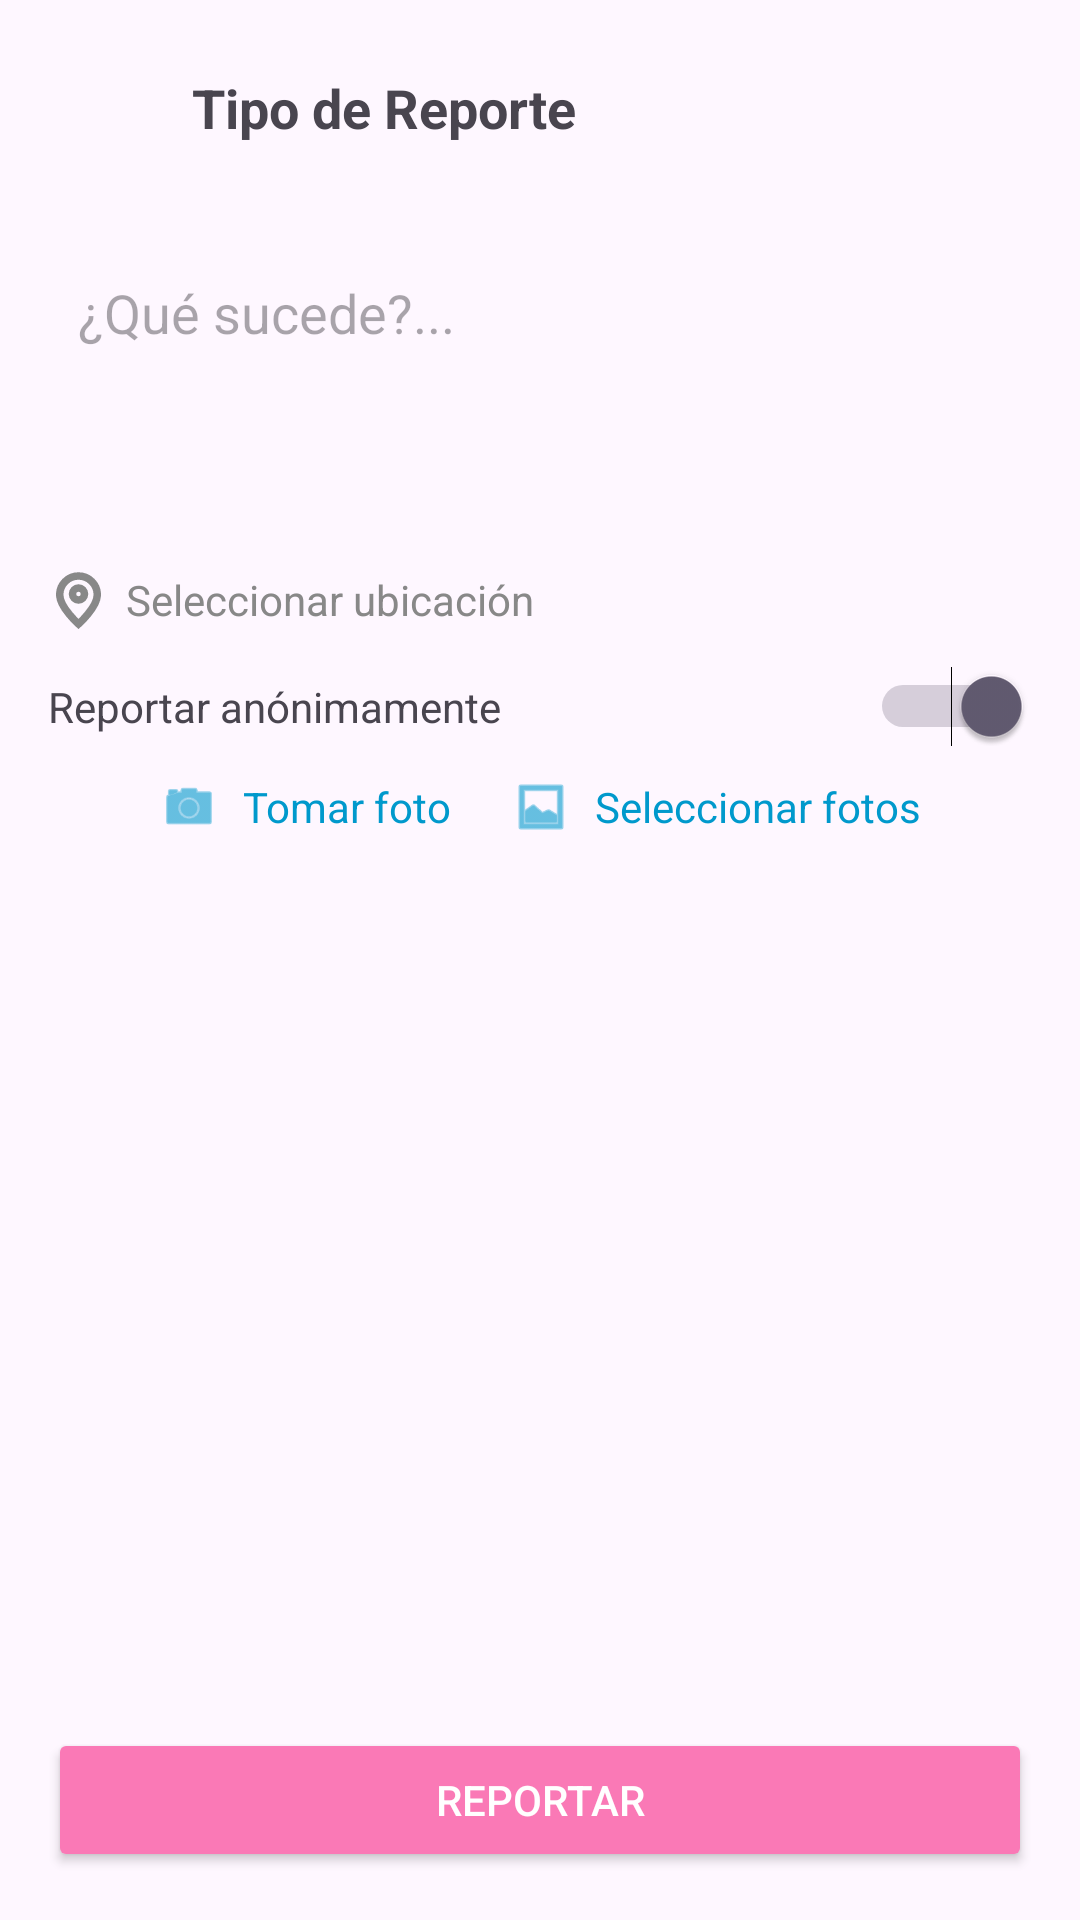

Named icons in this screenshot (1080px x 1920px) and their bounding boxes, rect(x1, y1, x2, y2):
camera: rect(166, 788, 212, 825)
gallery: rect(518, 784, 564, 830)
ubi: rect(56, 572, 101, 629)
